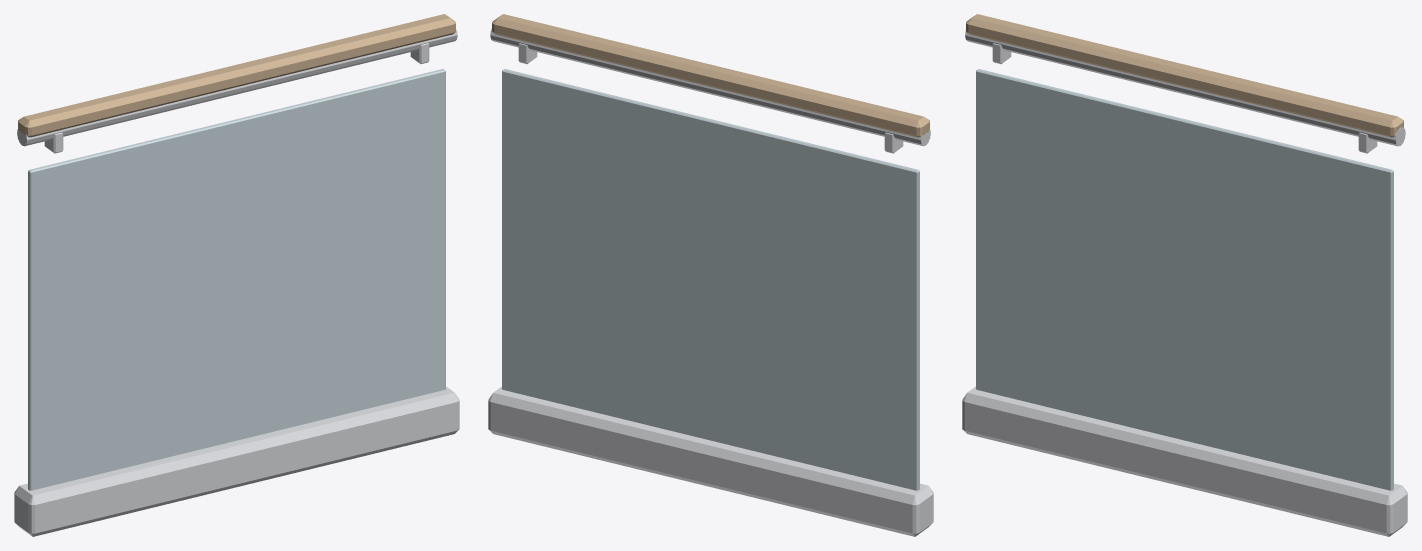
Rendered from office-lobby-and-facilities-stair-balustrade-module-c5bfe21d__26166.glb.
3 views of the same model, side by side, from view 1: azimuth 30°, elevation 25°; view 2: azimuth 150°, elevation 25°; view 3: azimuth 330°, elevation 25° (orthographic).
Visible parts, largest first — view 1: stair-balustrade-module; view 2: stair-balustrade-module; view 3: stair-balustrade-module.
Part boxes in pixels (x1,y1,x2,y2): stair-balustrade-module: (14,14,459,536); stair-balustrade-module: (488,14,933,536); stair-balustrade-module: (962,14,1407,536).
Bounding box in the file's own units: 1.2 × 1.1 × 0.09.
